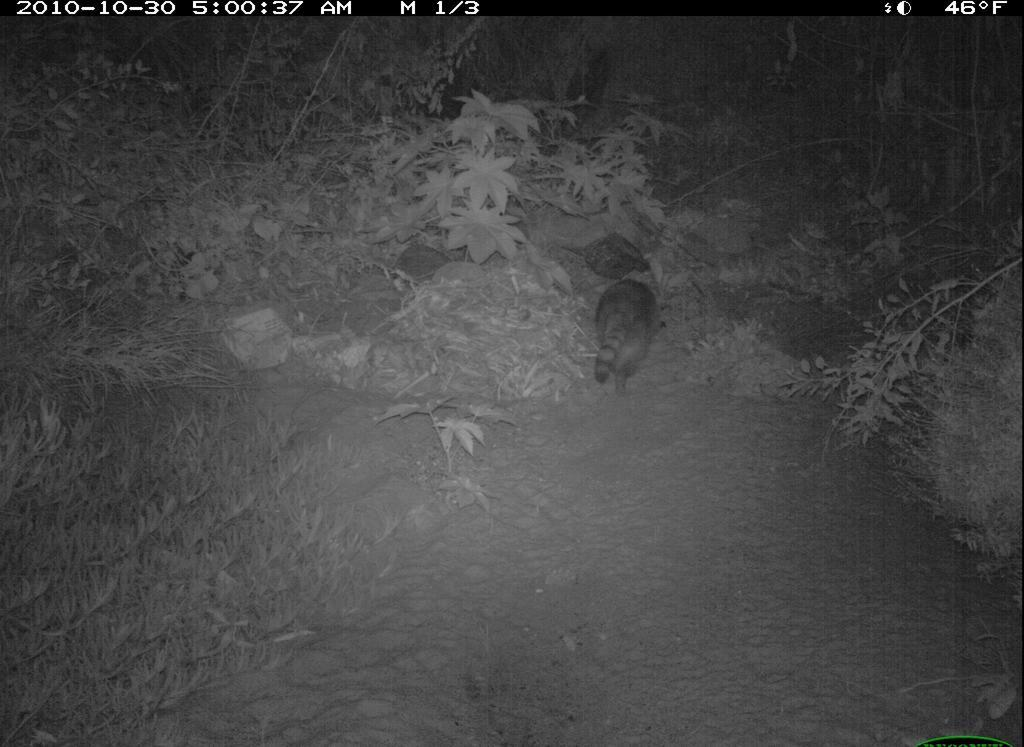raccoon: (570, 268, 673, 405)
